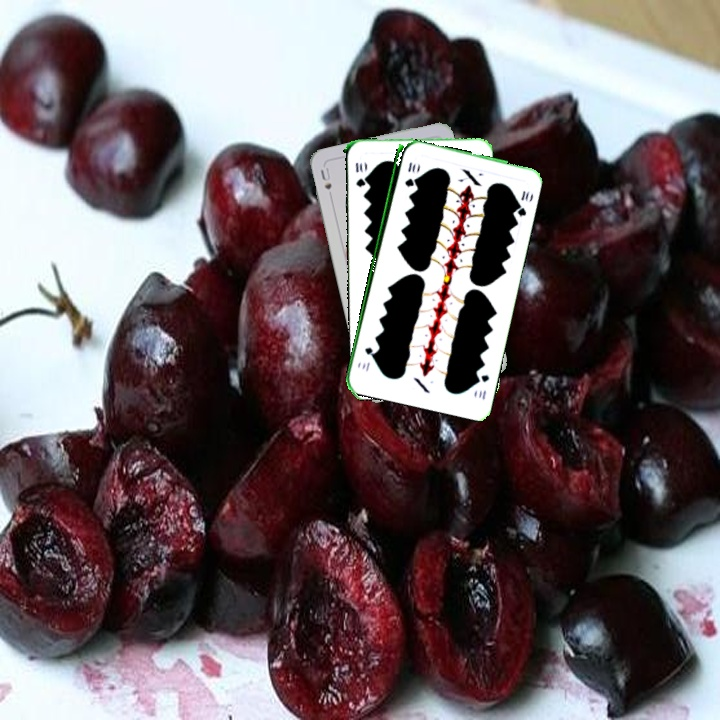G10: (472, 370, 492, 402), (352, 159, 368, 189), (401, 158, 415, 190)
SU: (316, 163, 334, 192)
